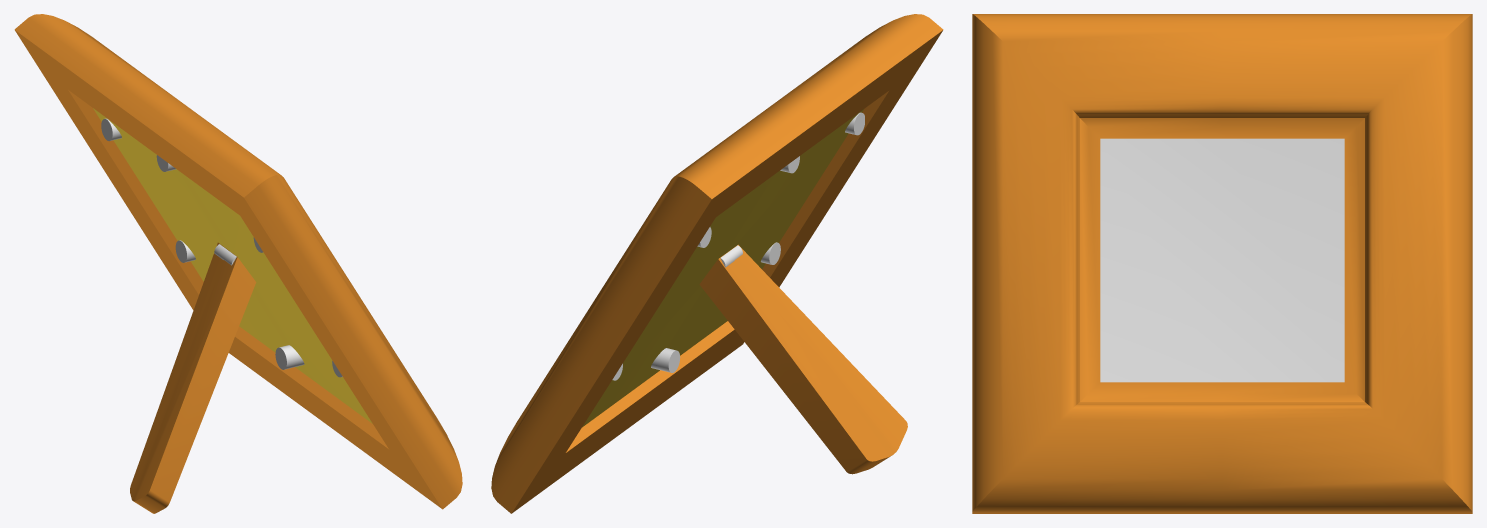
The model's file is pictureframe.fbx.
3 views of the same model, side by side, from view 1: azimuth 30°, elevation 25°; view 2: azimuth 150°, elevation 25°; view 3: azimuth 270°, elevation 25° (orthographic). The views are drawn at different scales.
Visible parts, largest first — view 1: Cube, Cylinder.005; view 2: Cube, Cylinder.005; view 3: Cube.
Part boxes in pixels (box(x1,y1,x2,y2)): Cube: box(14, 14, 462, 513); Cylinder.005: box(275, 345, 304, 369); Cube: box(491, 14, 943, 513); Cylinder.005: box(651, 348, 680, 372); Cube: box(972, 14, 1472, 513).
Size of the model in its own units: 129 by 184 by 200.
